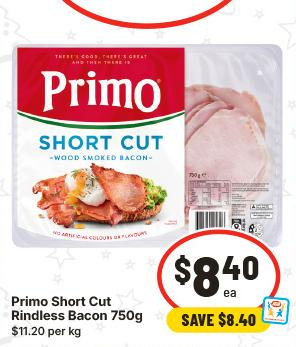description_block: (6, 287, 156, 326)
price_main: (153, 224, 285, 308)
product_image_block: (10, 38, 288, 255)
promo_text_block: (163, 306, 273, 334)
unit_price_block: (6, 319, 91, 344)
